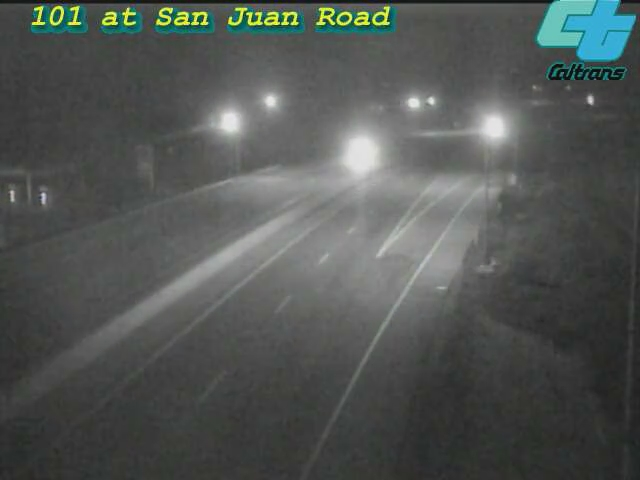vehicle: (333, 129, 383, 179), (462, 103, 512, 153)
